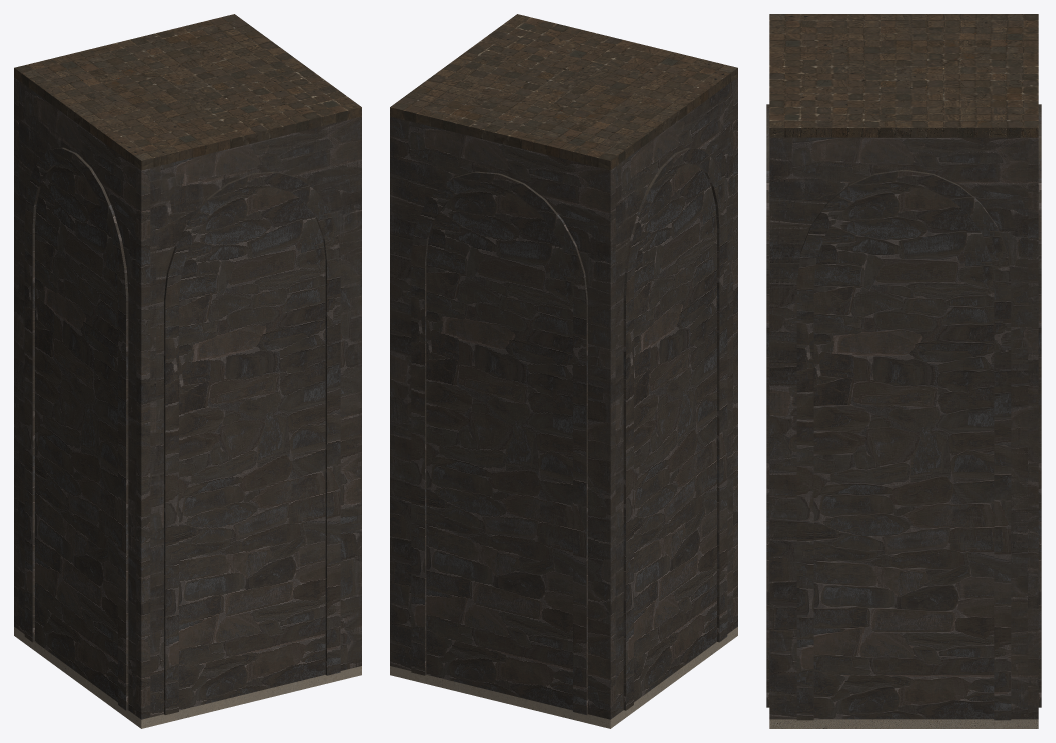
File: DunCell.glb
3 views of the same model, side by side, from view 1: azimuth 30°, elevation 25°; view 2: azimuth 150°, elevation 25°; view 3: azimuth 270°, elevation 25° (orthographic). The views are drawn at different scales.
Visible parts, largest first — view 1: wall_down, wall_left, door_down, ceiling, door_left, floor, wall_up; view 2: wall_up, wall_left, ceiling, door_up, door_left, floor, wall_down; view 3: wall_right, door_right, ceiling, wall_up, floor, door_up, door_down.
Part boxes in pixels (x1,y1,x2,y2): wall_down: (136,116,361,719); wall_left: (14,80,150,719); door_down: (149,118,361,714); ceiling: (14,14,361,170); door_left: (14,78,140,715); floor: (14,627,361,728); wall_up: (14,77,18,629); wall_up: (390,116,615,719); wall_left: (602,98,736,718); ceiling: (390,14,737,170); door_up: (390,117,610,715); door_left: (610,77,737,715); floor: (390,627,737,728); wall_down: (733,77,737,629); wall_right: (769,137,1038,719); door_right: (769,137,1038,720); ceiling: (769,14,1038,137); wall_up: (1028,137,1038,719); floor: (769,719,1038,728); door_up: (1038,104,1041,707); door_down: (766,104,769,707).
Size of the model in its own units: 1.02 by 2.46 by 1.02.
3 materials, 3 textured.
